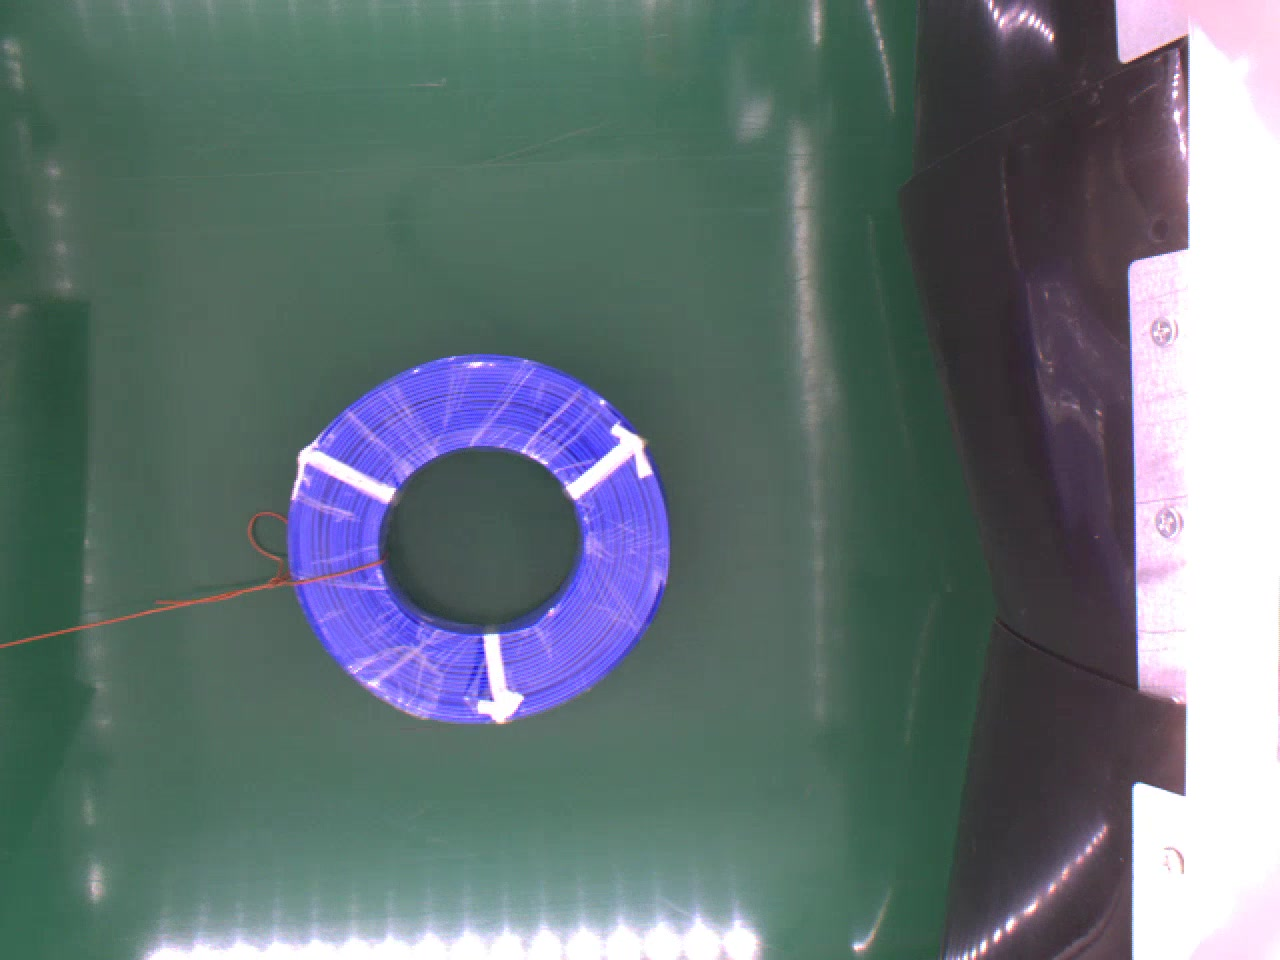blue: (280, 351, 673, 723)
